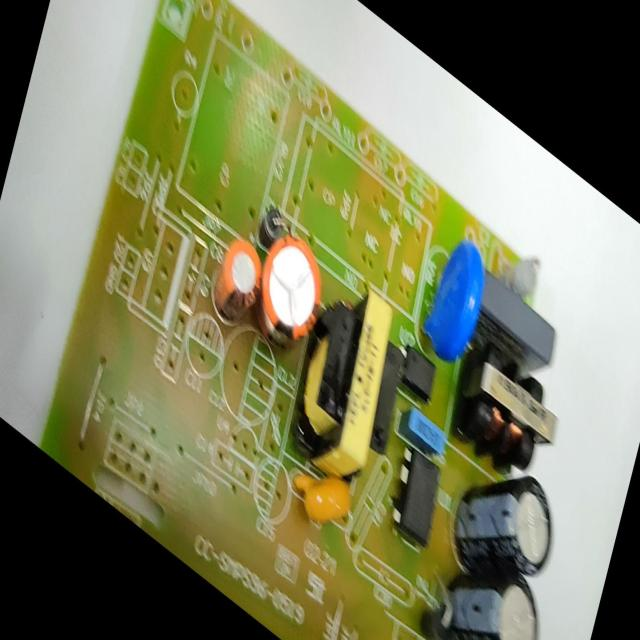Cap1: (243, 212, 332, 384)
Cap2: (205, 219, 268, 343)
Cap3: (442, 422, 569, 625)
Cap4: (425, 520, 554, 640)
MOSFET: (382, 426, 449, 556)
Mov: (415, 214, 494, 380)
Resistor: (504, 241, 543, 306)
Transformer: (282, 253, 420, 516), (435, 314, 569, 516)
